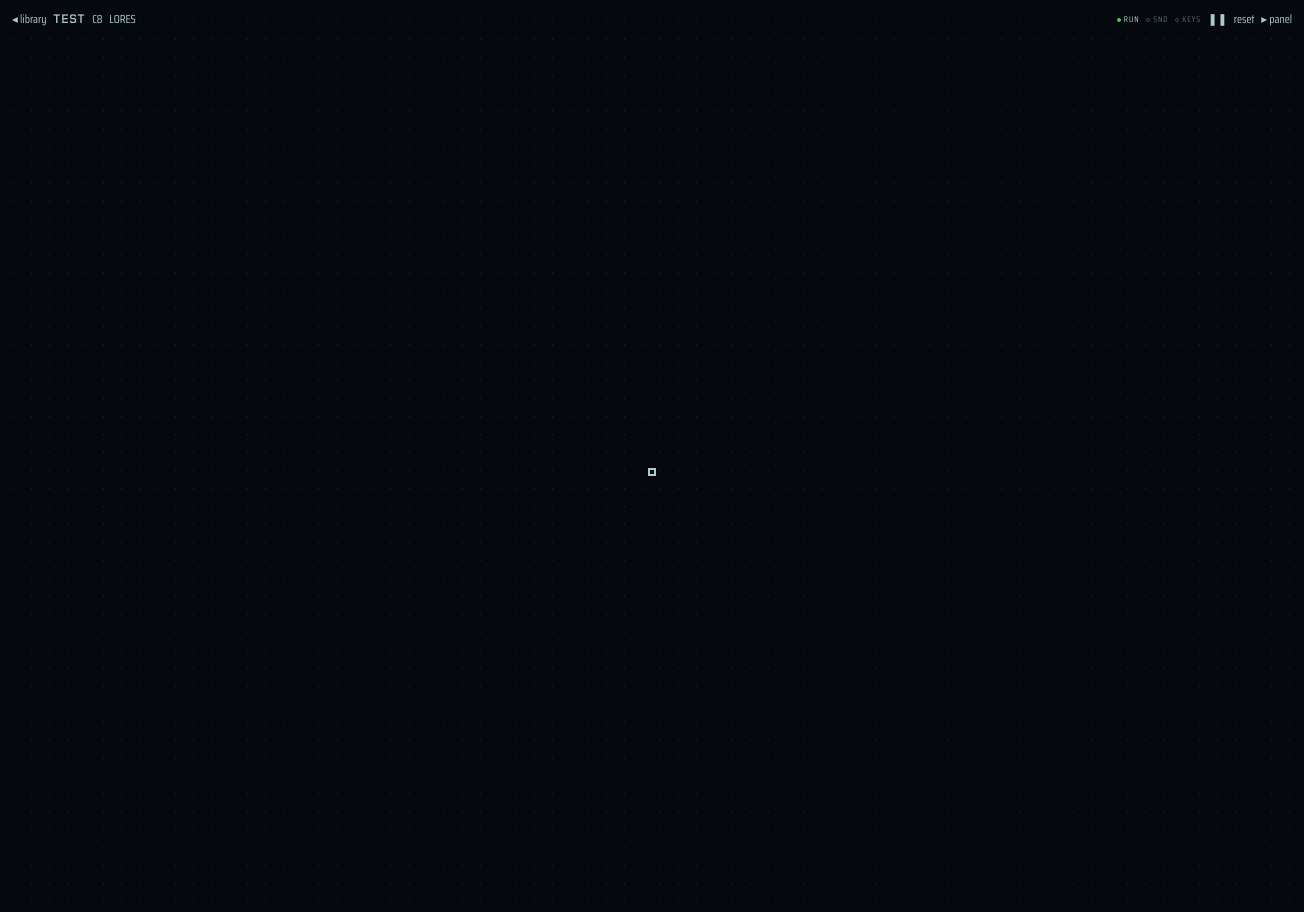
Test: PANEL in a pane with no room for the panel › opens a panel shut by hand with one press, and shuts it with the next
Click the button with test id "chip8-panel-toggle": [1277, 20] box [1261, 12, 1292, 28]
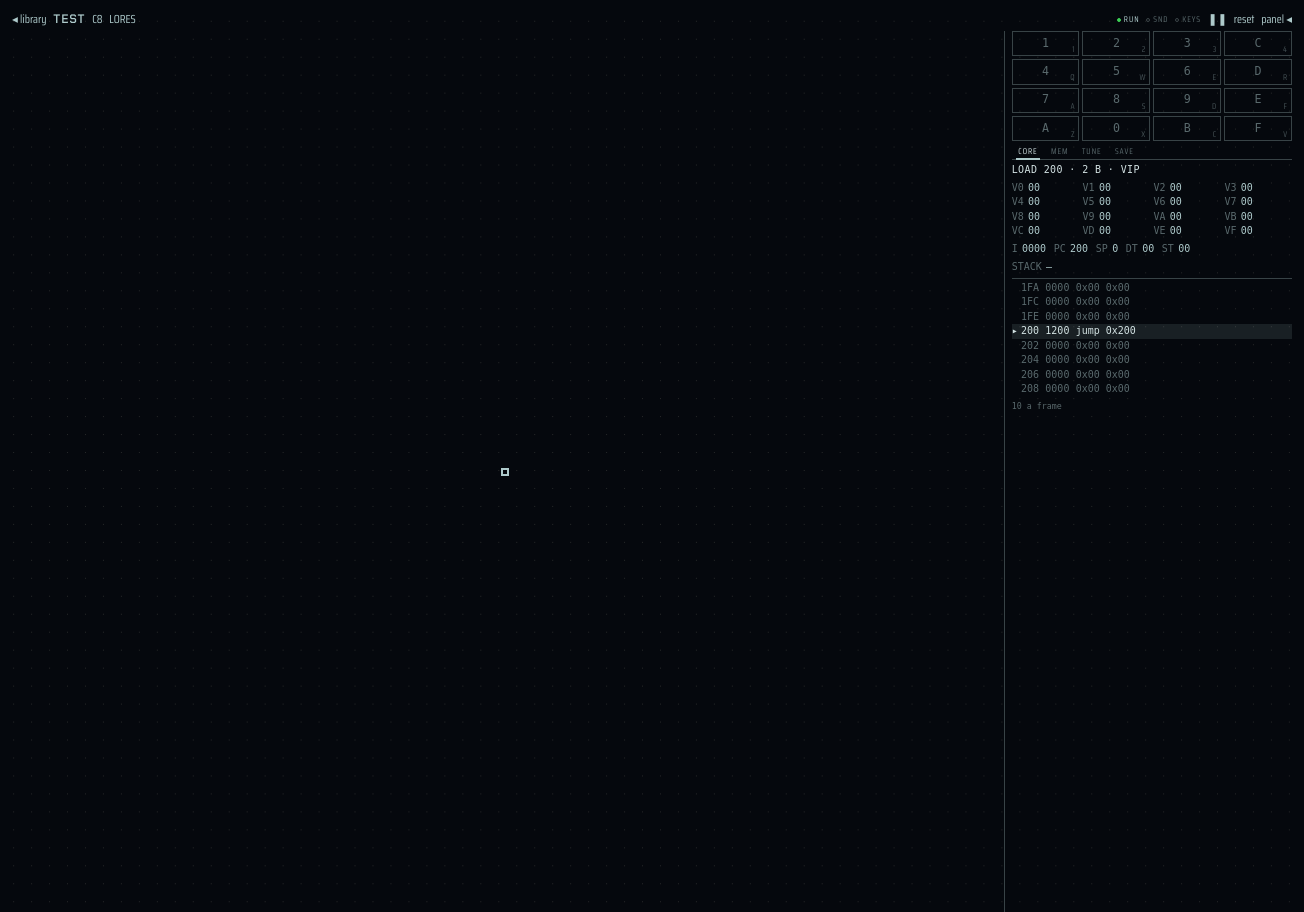
Result: the element with test id "chip8-panel" is shown at [1004, 31, 1292, 911]
Result: the button with test id "chip8-panel-toggle" is expanded
Click the button with test id "chip8-panel-toggle": [1277, 20] box [1261, 12, 1292, 28]
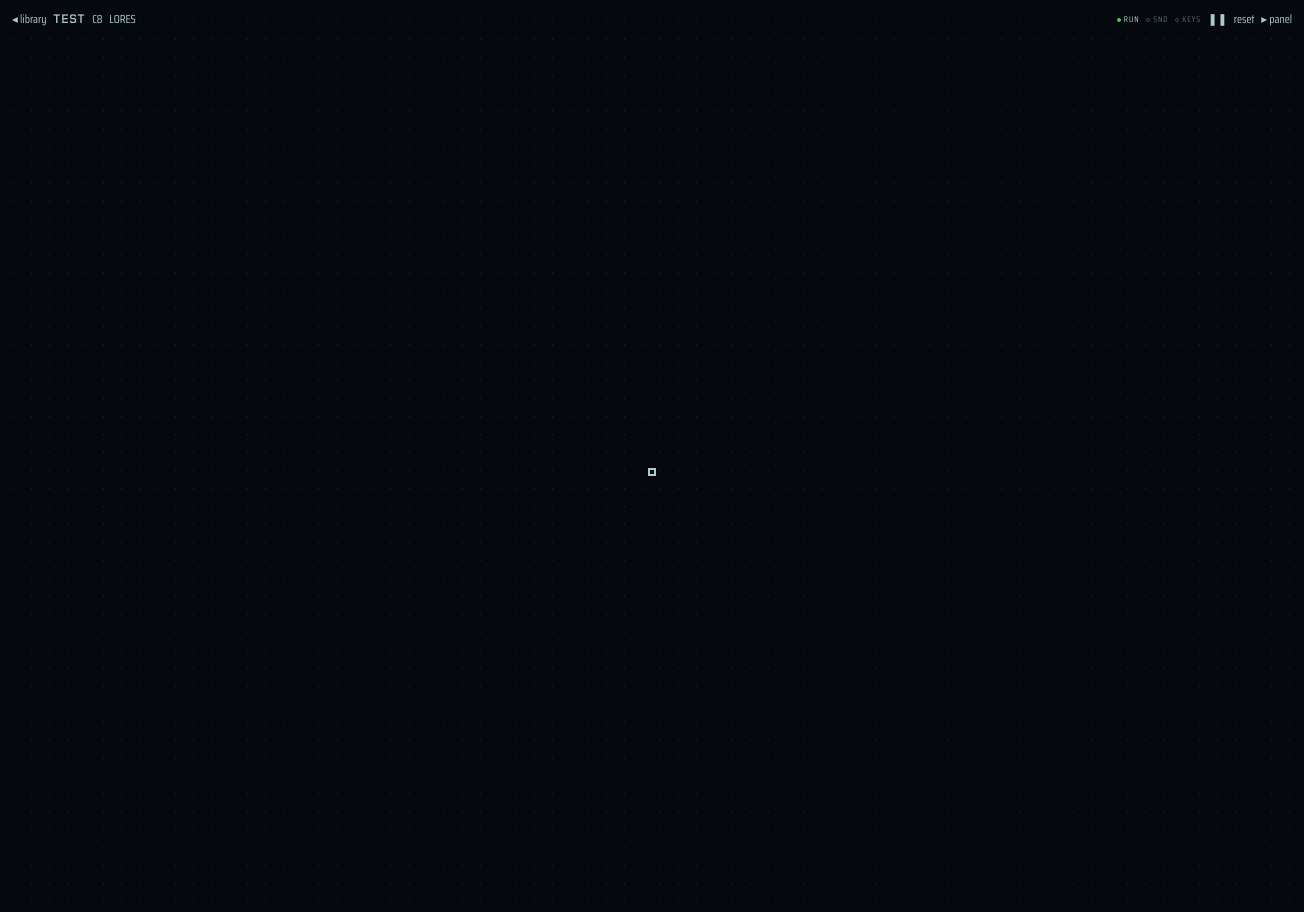
Result: the button with test id "chip8-panel-toggle" is collapsed
Result: the element with test id "chip8-panel" is gone
Click the button with test id "chip8-panel-toggle": [1277, 20] box [1261, 12, 1292, 28]
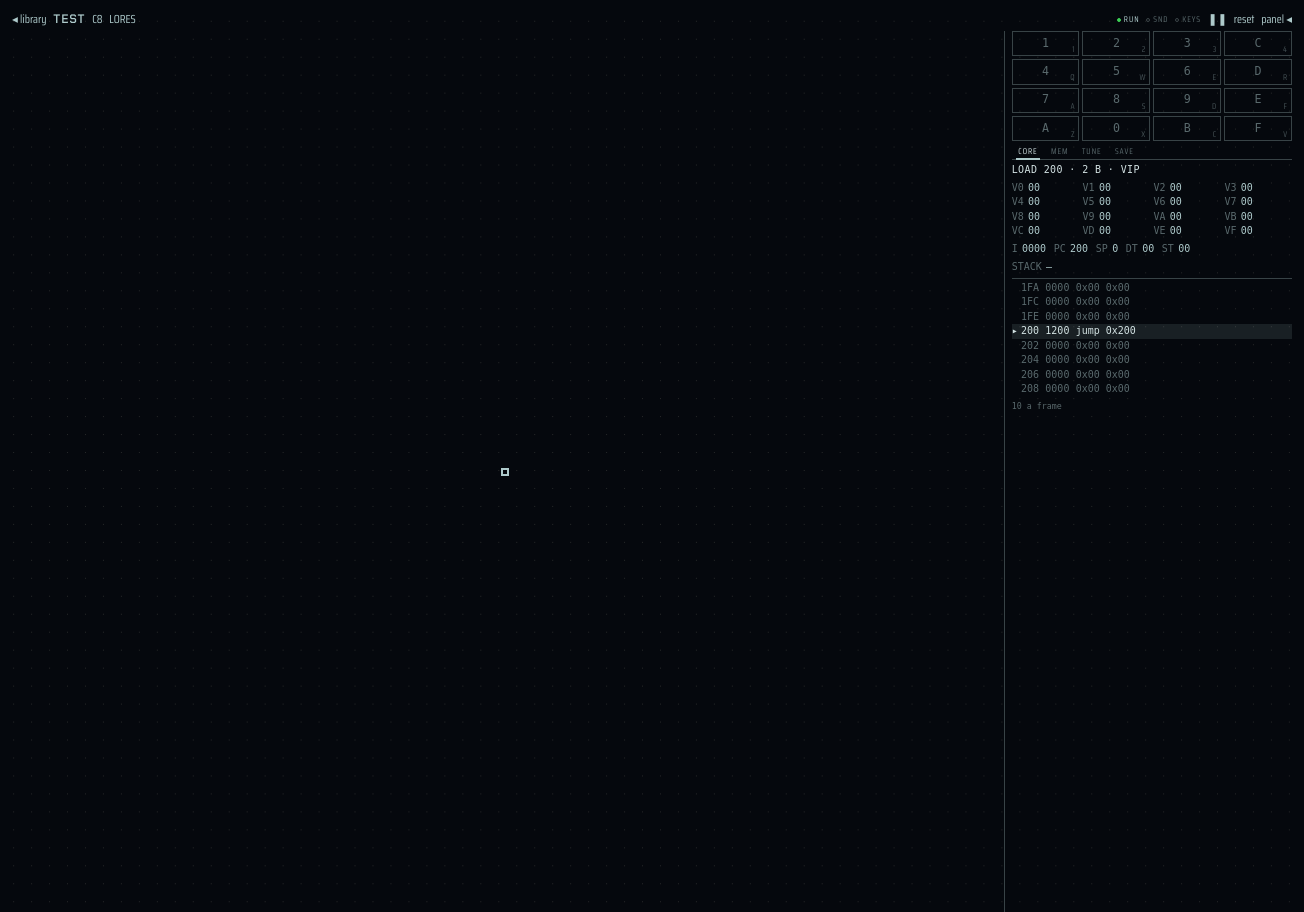
Result: the button with test id "chip8-panel-toggle" is expanded at [1261, 12, 1292, 28]
Result: the element with test id "chip8-panel" is shown at [1004, 31, 1292, 911]
